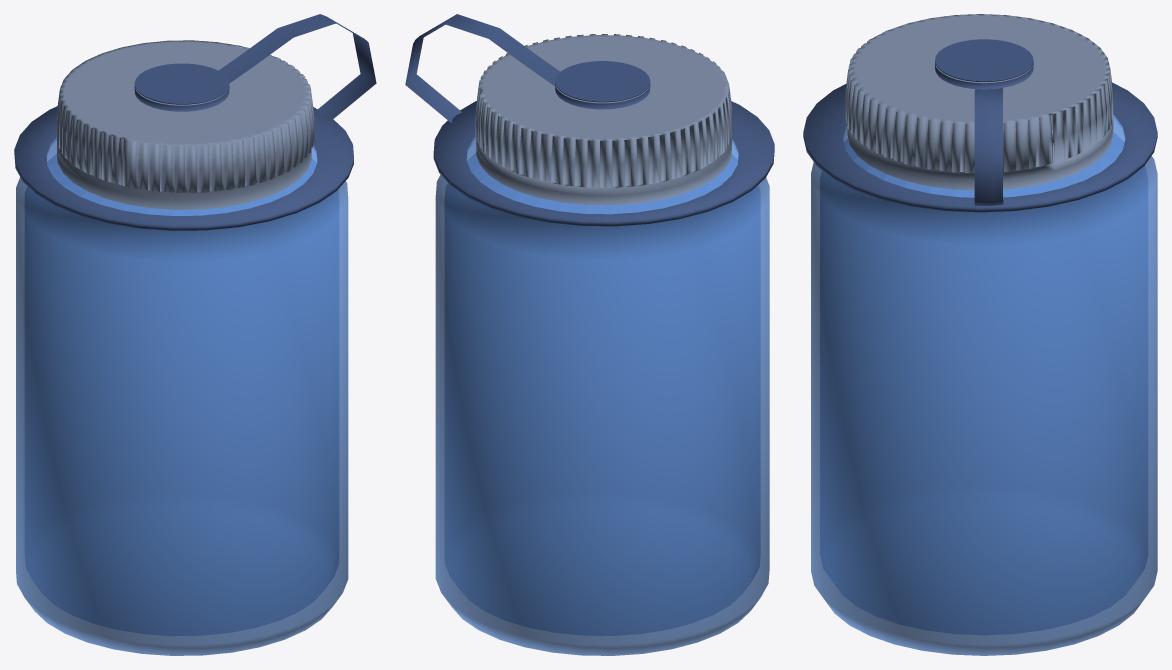
Rendered from waterbottle_main.glb.
3 views of the same model, side by side, from view 1: azimuth 30°, elevation 25°; view 2: azimuth 150°, elevation 25°; view 3: azimuth 270°, elevation 25° (orthographic). The views are drawn at different scales.
Parts seen in each view (by area): view 1: WaterBottle; view 2: WaterBottle; view 3: WaterBottle.
Boxes of the visible parts, <box> form: WaterBottle: <box>14,14,376,655</box>; WaterBottle: <box>405,14,774,655</box>; WaterBottle: <box>803,14,1157,655</box>.
Bounding box in the file's own units: 1.78 × 2.69 × 1.55.
